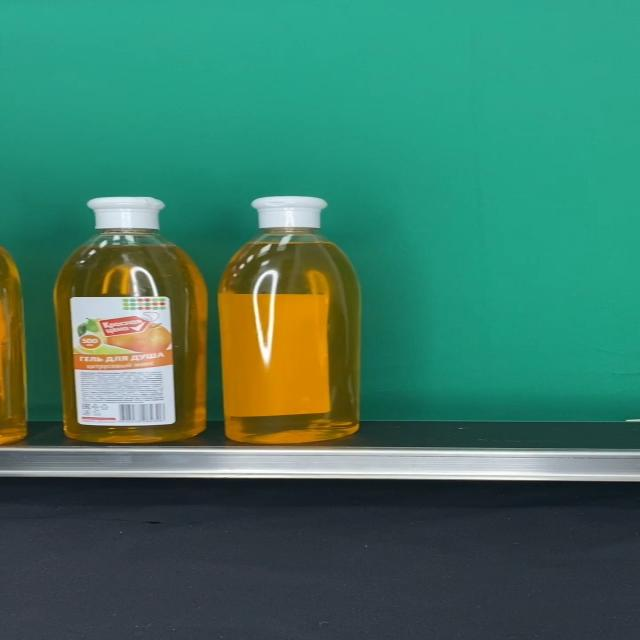Bottle: (54, 196, 208, 443), (219, 195, 360, 444)
Cap: (86, 197, 166, 230), (250, 195, 329, 227)
